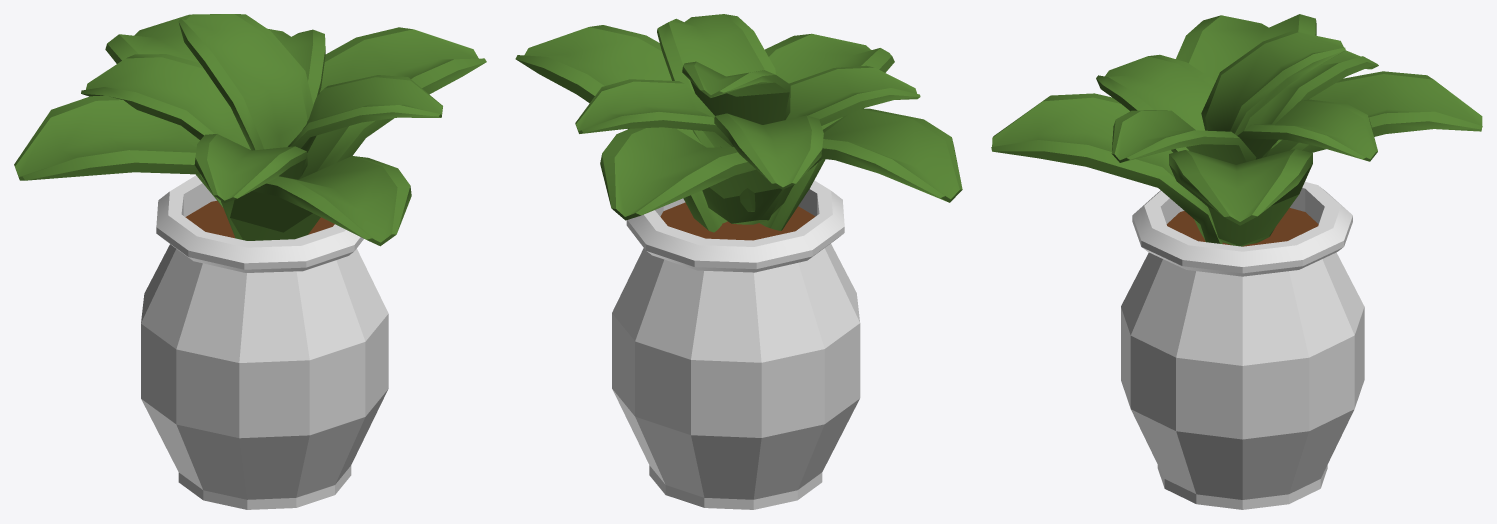
The model's file is plant.fbx.
3 views of the same model, side by side, from view 1: azimuth 30°, elevation 25°; view 2: azimuth 150°, elevation 25°; view 3: azimuth 270°, elevation 25° (orthographic). The views are drawn at different scales.
Parts seen in each view (by area): view 1: pCylinder1, pCube22, pCube17, pCube16, pCube23, pCube14, pCube15; view 2: pCylinder1, pCube22, pCube15, pCube16, pCube14, pCube17, pCube23; view 3: pCylinder1, pCube22, pCube17, pCube14, pCube15, pCube23, pCube16.
Part boxes in pixels (box(x1,y1,x2,y2)): pCylinder1: box(141, 175, 388, 509); pCube22: box(81, 28, 442, 202); pCube17: box(221, 156, 411, 246); pCube16: box(14, 95, 200, 180); pCube23: box(178, 14, 313, 150); pCube14: box(299, 27, 486, 179); pCube15: box(105, 14, 223, 207); pCylinder1: box(612, 180, 860, 509); pCube22: box(575, 14, 920, 189); pCube15: box(600, 127, 784, 224); pCube16: box(739, 108, 962, 214); pCube14: box(515, 25, 727, 232); pCube17: box(760, 33, 894, 230); pCube23: box(682, 61, 790, 124); pCylinder1: box(1121, 182, 1364, 509); pCube22: box(1096, 50, 1378, 164); pCube17: box(991, 93, 1222, 243); pCube14: box(1169, 149, 1312, 246); pCube15: box(1266, 71, 1482, 156); pCube23: box(1201, 31, 1345, 135); pCube16: box(1176, 14, 1316, 148).
Bounding box in the file's own units: 17.85 × 16.48 × 17.36.
